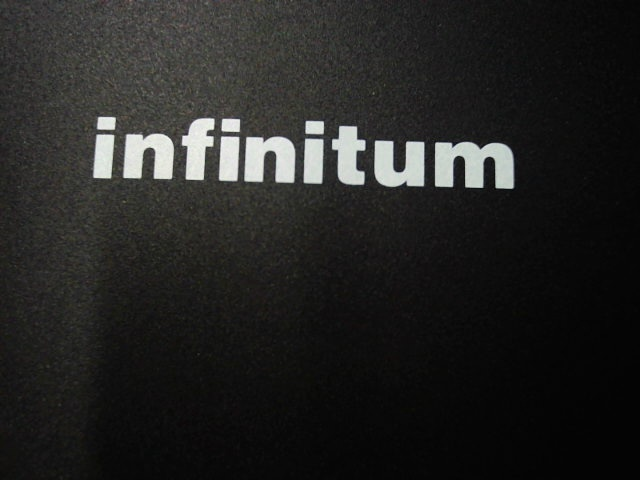BK_infinitum: (86, 102, 528, 199)
